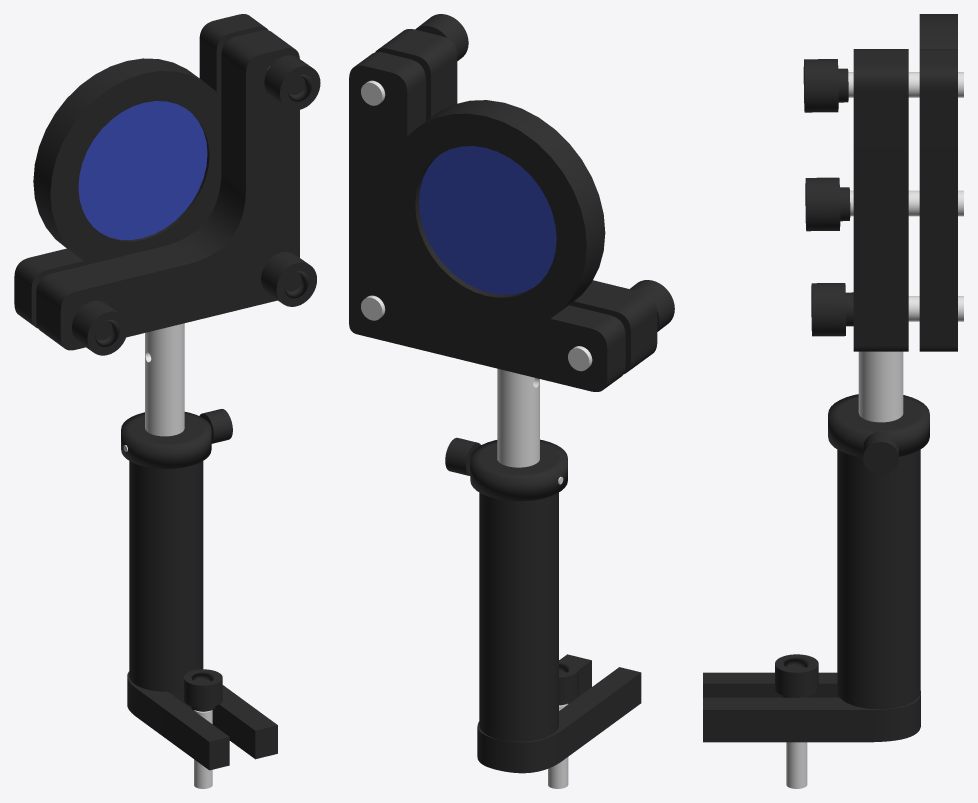
File: 反射镜.fbx
3 renders of one model, left to right at view 1: azimuth 30°, elevation 25°; view 2: azimuth 150°, elevation 25°; view 3: azimuth 270°, elevation 25°, orthographic. The views are drawn at different scales.
Visible parts, largest first — view 1: Box866, Cylinder3293, Cylinder3289, Cylinder3303, Box867, Cylinder3292, Cylinder3301, Cylinder3295, Cylinder3298, Cylinder3305, Cylinder3290, Cylinder3304; view 2: Cylinder3293, Cylinder3289, Cylinder3303, Box867, Box866, Cylinder3292, Cylinder3301, Cylinder3295, Cylinder3290, Cylinder3305; view 3: Cylinder3289, Box866, Cylinder3293, Box867, Cylinder3292, Cylinder3301, Cylinder3295, Cylinder3298, Cylinder3305, Cylinder3290, Cylinder3304, Cylinder3300 (+2 smaller).
Boxes of the visible parts, bbox=[...] form: Box866: bbox=[36, 30, 299, 350]; Cylinder3293: bbox=[14, 14, 267, 328]; Cylinder3289: bbox=[121, 412, 211, 692]; Cylinder3303: bbox=[78, 101, 207, 239]; Box867: bbox=[127, 671, 277, 770]; Cylinder3292: bbox=[145, 323, 184, 436]; Cylinder3301: bbox=[264, 55, 320, 110]; Cylinder3295: bbox=[72, 300, 127, 355]; Cylinder3298: bbox=[261, 252, 316, 306]; Cylinder3305: bbox=[184, 669, 222, 711]; Cylinder3290: bbox=[199, 409, 232, 443]; Cylinder3304: bbox=[194, 710, 212, 788]; Cylinder3293: bbox=[349, 52, 625, 391]; Cylinder3289: bbox=[470, 439, 567, 741]; Cylinder3303: bbox=[419, 146, 556, 294]; Box867: bbox=[477, 654, 641, 773]; Box866: bbox=[375, 29, 657, 373]; Cylinder3292: bbox=[497, 368, 539, 467]; Cylinder3301: bbox=[415, 14, 468, 60]; Cylinder3295: bbox=[630, 280, 674, 331]; Cylinder3290: bbox=[445, 437, 480, 475]; Cylinder3305: bbox=[559, 660, 578, 705]; Cylinder3289: bbox=[828, 394, 929, 709]; Box866: bbox=[853, 49, 908, 351]; Cylinder3293: bbox=[919, 14, 957, 351]; Box867: bbox=[703, 672, 920, 742]; Cylinder3292: bbox=[858, 351, 903, 422]; Cylinder3301: bbox=[803, 59, 848, 112]; Cylinder3295: bbox=[805, 177, 850, 231]; Cylinder3298: bbox=[811, 283, 853, 336]; Cylinder3305: bbox=[775, 654, 818, 697]; Cylinder3290: bbox=[863, 431, 898, 474]; Cylinder3304: bbox=[786, 742, 807, 788]; Cylinder3300: bbox=[848, 72, 963, 97].
Size of the model in its own units: 15.85 by 43.82 by 13.3.
